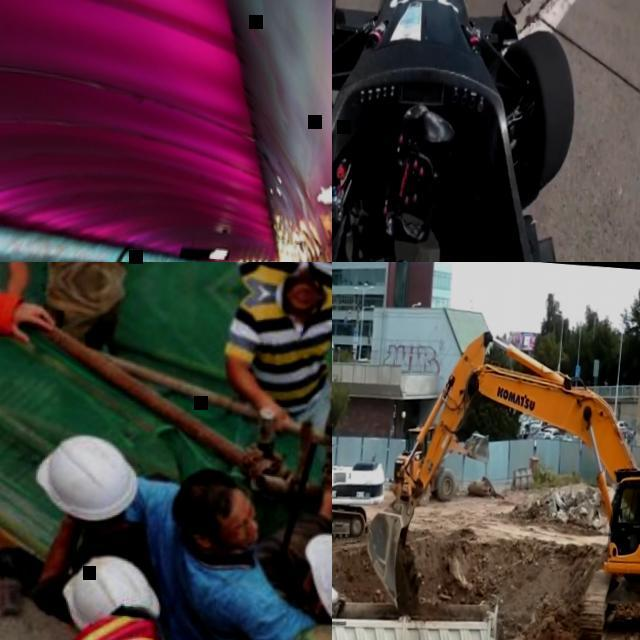helmet: (21, 404, 152, 534), (62, 549, 166, 634), (289, 518, 332, 640), (64, 610, 162, 640)
